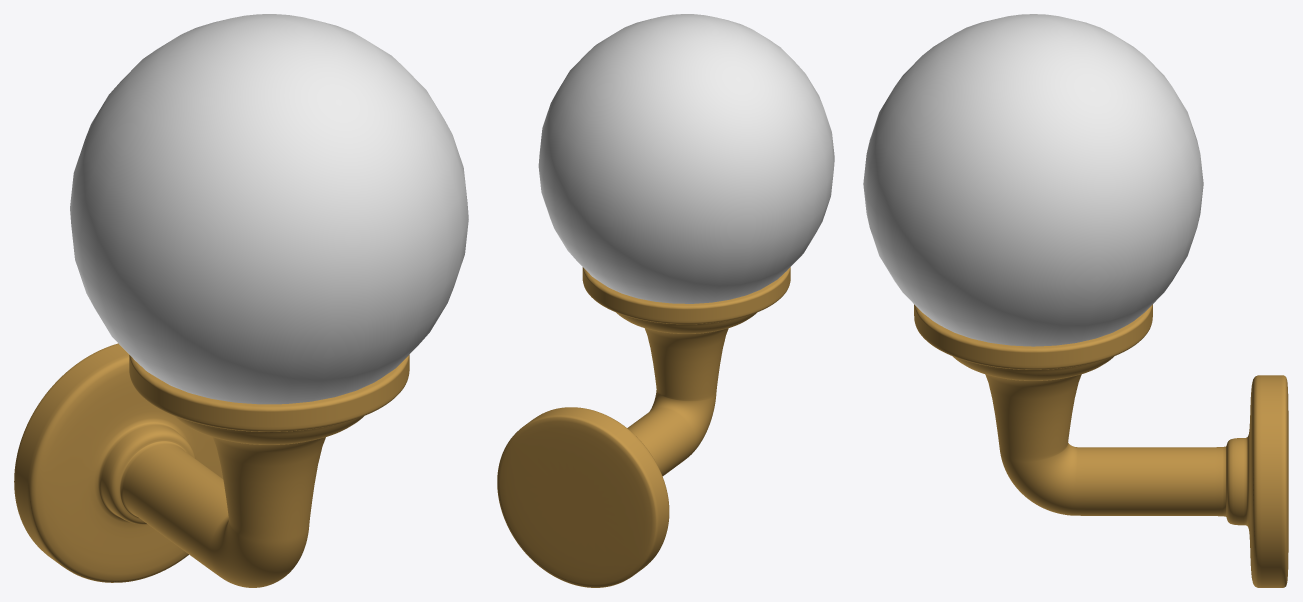
File: Lamp01.glb
3 renders of one model, left to right at view 1: azimuth 30°, elevation 25°; view 2: azimuth 150°, elevation 25°; view 3: azimuth 270°, elevation 25°, orthographic. The views are drawn at different scales.
Visible parts, largest first — view 1: Lamp, BaseLamp; view 2: Lamp, BaseLamp; view 3: Lamp, BaseLamp.
Boxes of the visible parts, left/top/right/bottom form: Lamp: left=70, top=14, right=468, bottom=404; BaseLamp: left=14, top=343, right=409, bottom=587; Lamp: left=538, top=14, right=834, bottom=303; BaseLamp: left=497, top=267, right=790, bottom=587; Lamp: left=863, top=14, right=1203, bottom=346; BaseLamp: left=914, top=304, right=1288, bottom=587.
Size of the model in its own units: 0.3 by 0.5332 by 0.3749.
